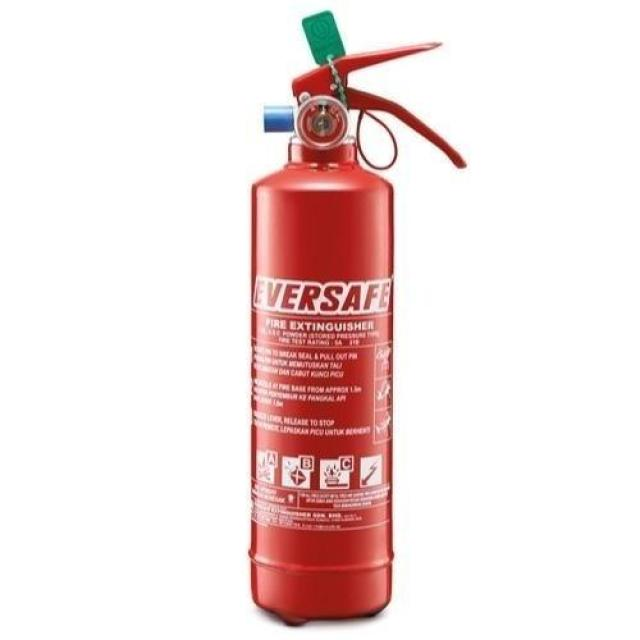fire_extinguisher: (243, 3, 473, 624)
